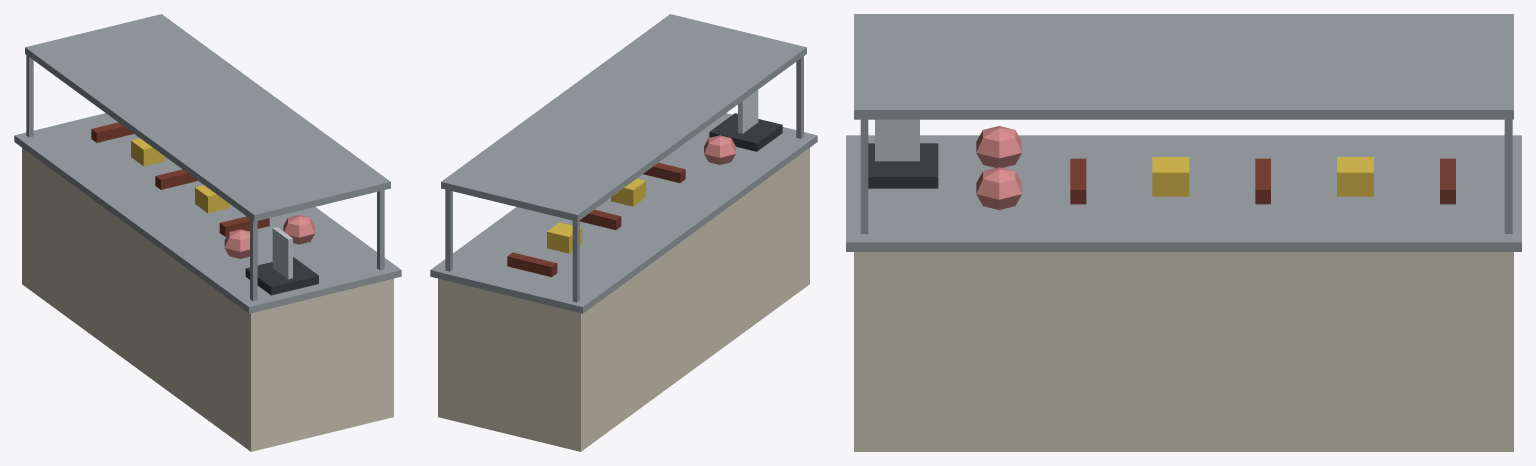
The model's file is banco_affettati.obj.
3 views of the same model, side by side, from view 1: azimuth 30°, elevation 25°; view 2: azimuth 150°, elevation 25°; view 3: azimuth 270°, elevation 25° (orthographic). The views are drawn at different scales.
Parts seen in each view (by area): view 1: parte_01, parte_00, parte_03, parte_06, parte_05, parte_04, parte_07; view 2: parte_01, parte_00, parte_03, parte_06, parte_04, parte_05, parte_07; view 3: parte_01, parte_00, parte_05, parte_04, parte_06, parte_03, parte_07.
Part boxes in pixels (<box>): parte_01: <box>14,14,401,313</box>; parte_00: <box>22,148,393,451</box>; parte_03: <box>91,122,269,236</box>; parte_06: <box>245,257,318,295</box>; parte_05: <box>224,215,314,258</box>; parte_04: <box>131,138,229,213</box>; parte_07: <box>272,227,292,279</box>; parte_01: <box>430,14,817,313</box>; parte_00: <box>438,148,809,451</box>; parte_03: <box>507,162,685,277</box>; parte_06: <box>709,113,782,151</box>; parte_04: <box>547,178,645,253</box>; parte_05: <box>704,135,735,164</box>; parte_07: <box>738,90,758,133</box>; parte_01: <box>846,14,1521,251</box>; parte_00: <box>854,252,1513,451</box>; parte_05: <box>976,126,1021,209</box>; parte_04: <box>1152,157,1373,196</box>; parte_06: <box>868,143,938,188</box>; parte_03: <box>1070,158,1455,204</box>; parte_07: <box>875,119,919,161</box>.
Bounding box in the file's own units: 0.96 × 1.42 × 2.56.
